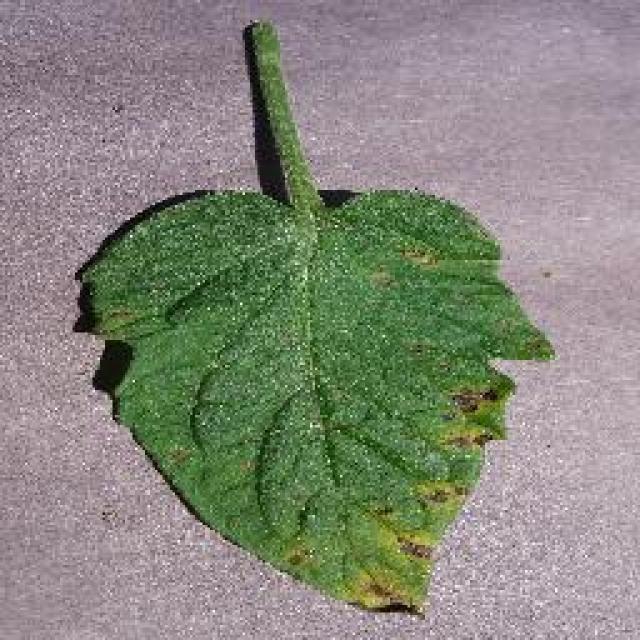Tomato___Septoria_leaf_spot: (82, 25, 552, 610)
